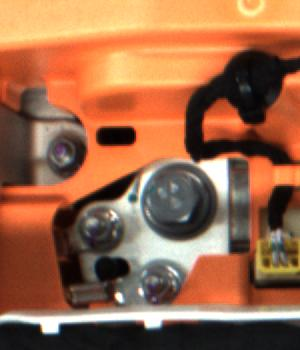nut_b: (136, 157, 220, 247)
